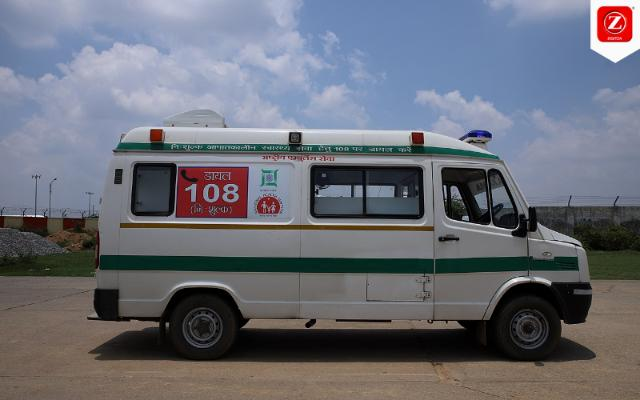ambulance: (82, 103, 600, 358)
